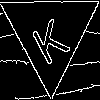K: (25, 9, 72, 66)
